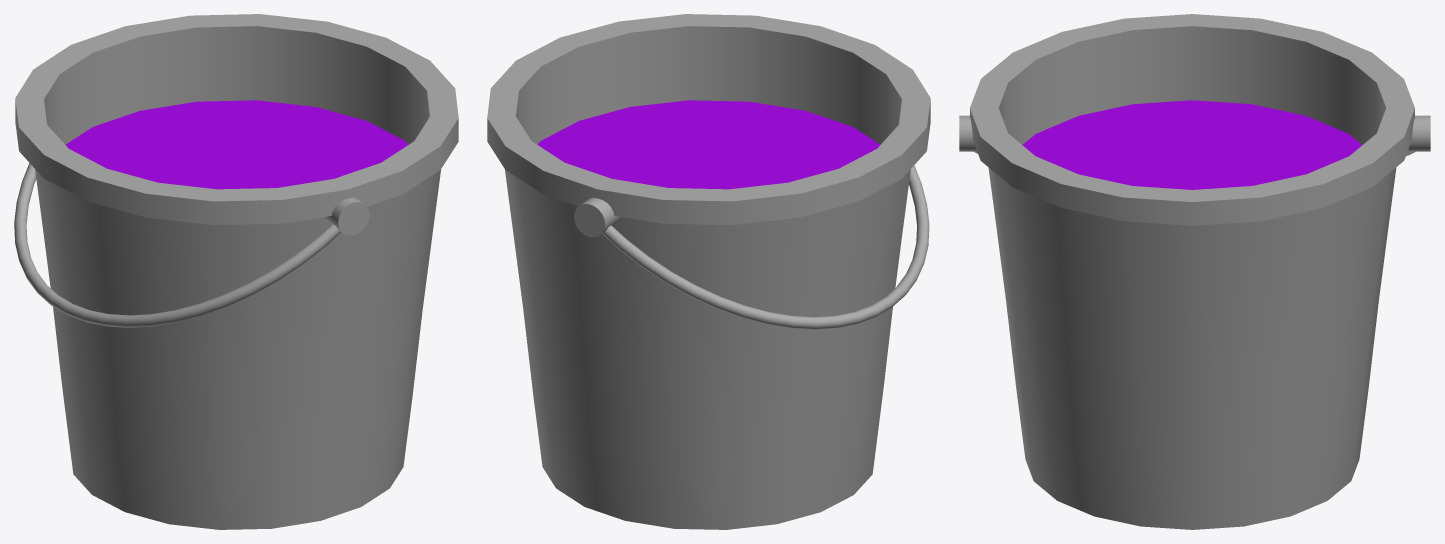
Rendered from UV_paint_bucket.fbx.
3 renders of one model, left to right at view 1: azimuth 30°, elevation 25°; view 2: azimuth 150°, elevation 25°; view 3: azimuth 270°, elevation 25°, orthographic.
Visible parts, largest first — view 1: pCylinder1, pTorus1, pCylinder3; view 2: pCylinder1, pTorus1, pCylinder2; view 3: pCylinder1, pCylinder2.
Part boxes in pixels (bbox=[...]): pCylinder1: bbox=[15, 14, 458, 529]; pTorus1: bbox=[14, 163, 340, 327]; pCylinder3: bbox=[325, 197, 369, 235]; pCylinder1: bbox=[487, 14, 930, 529]; pTorus1: bbox=[602, 165, 929, 329]; pCylinder2: bbox=[574, 197, 620, 237]; pCylinder1: bbox=[970, 14, 1414, 529]; pCylinder2: bbox=[1407, 115, 1430, 151].
Bounding box in the file's own units: 2.3 × 2 × 2.43.
